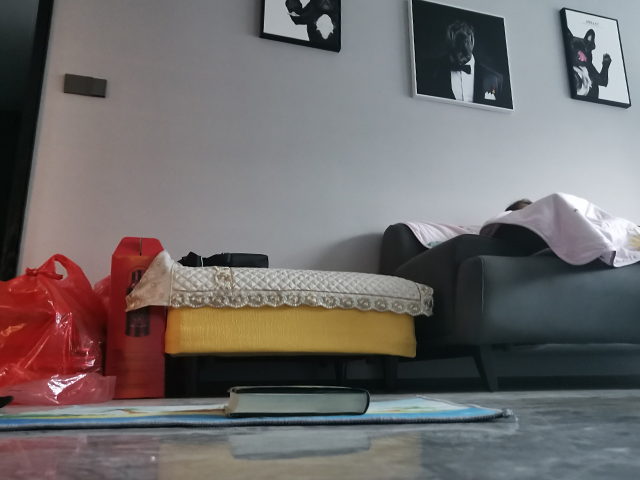book: (222, 384, 374, 419)
carpet: (1, 390, 516, 434)
sofa: (101, 230, 435, 401), (378, 213, 640, 388)
